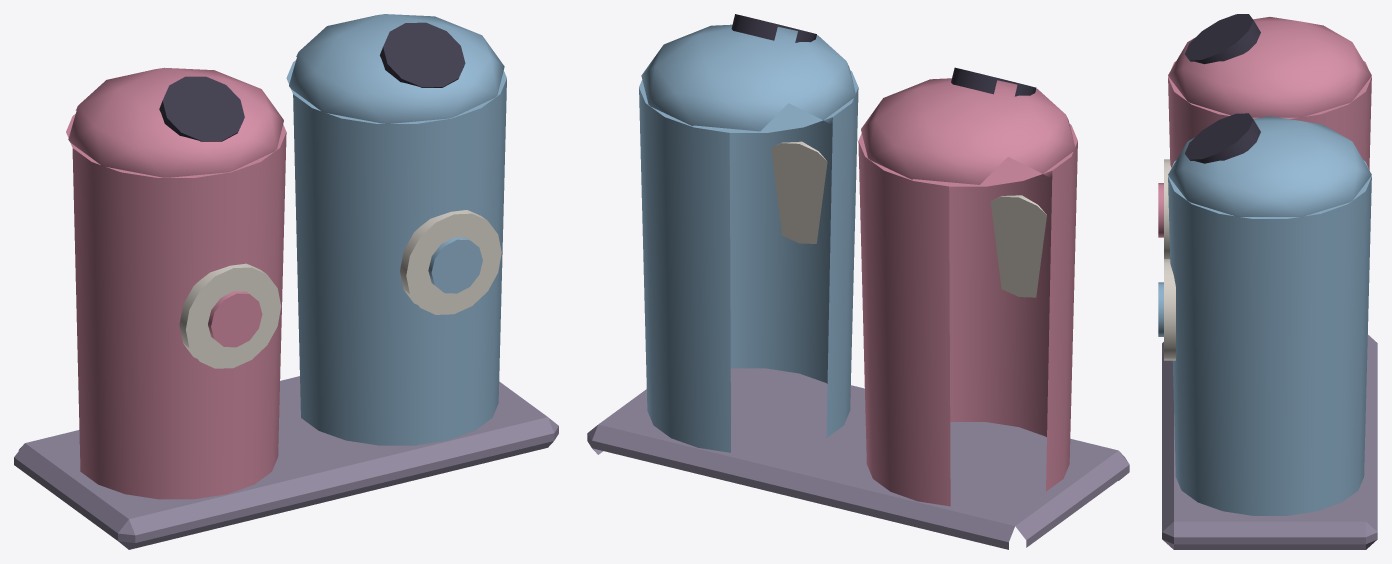
The model's file is ac_bins.glb.
3 views of the same model, side by side, from view 1: azimuth 30°, elevation 25°; view 2: azimuth 150°, elevation 25°; view 3: azimuth 270°, elevation 25° (orthographic). The views are drawn at different scales.
Parts seen in each view (by area): view 1: body; view 2: body; view 3: body.
Boxes of the visible parts, left/top/right/bottom form: body: left=14, top=14, right=558, bottom=549; body: left=587, top=14, right=1129, bottom=549; body: left=1158, top=14, right=1377, bottom=549.
Size of the model in its own units: 1.2 by 1.09 by 0.5599.
